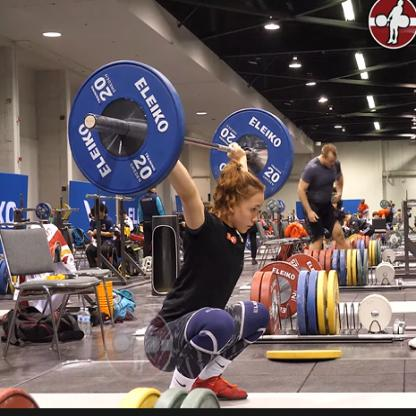Barbell: (61, 52, 192, 202)
